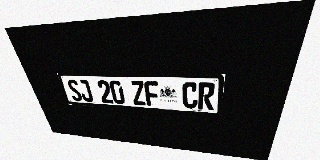0: (109, 80, 125, 104)
2: (96, 80, 113, 103)
C: (182, 82, 198, 109)
F: (144, 81, 160, 106)
J: (77, 79, 94, 102)
R: (198, 82, 215, 110)
S: (66, 79, 83, 101)
Z: (130, 81, 146, 106)
